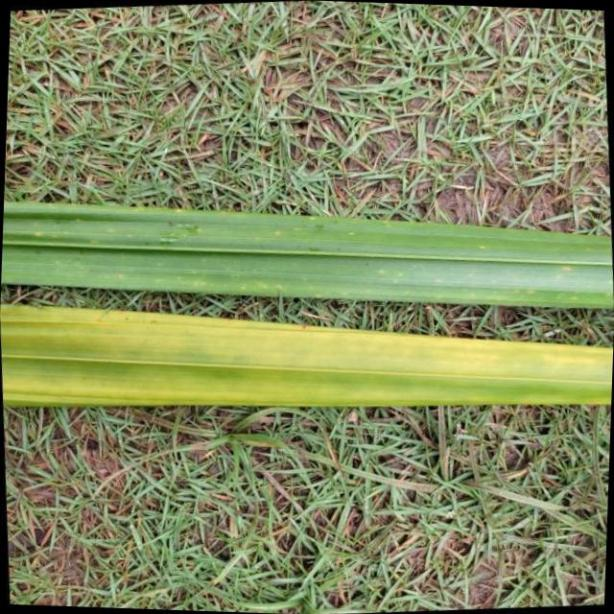nitrogen: (0, 294, 614, 413), (0, 197, 614, 313)
